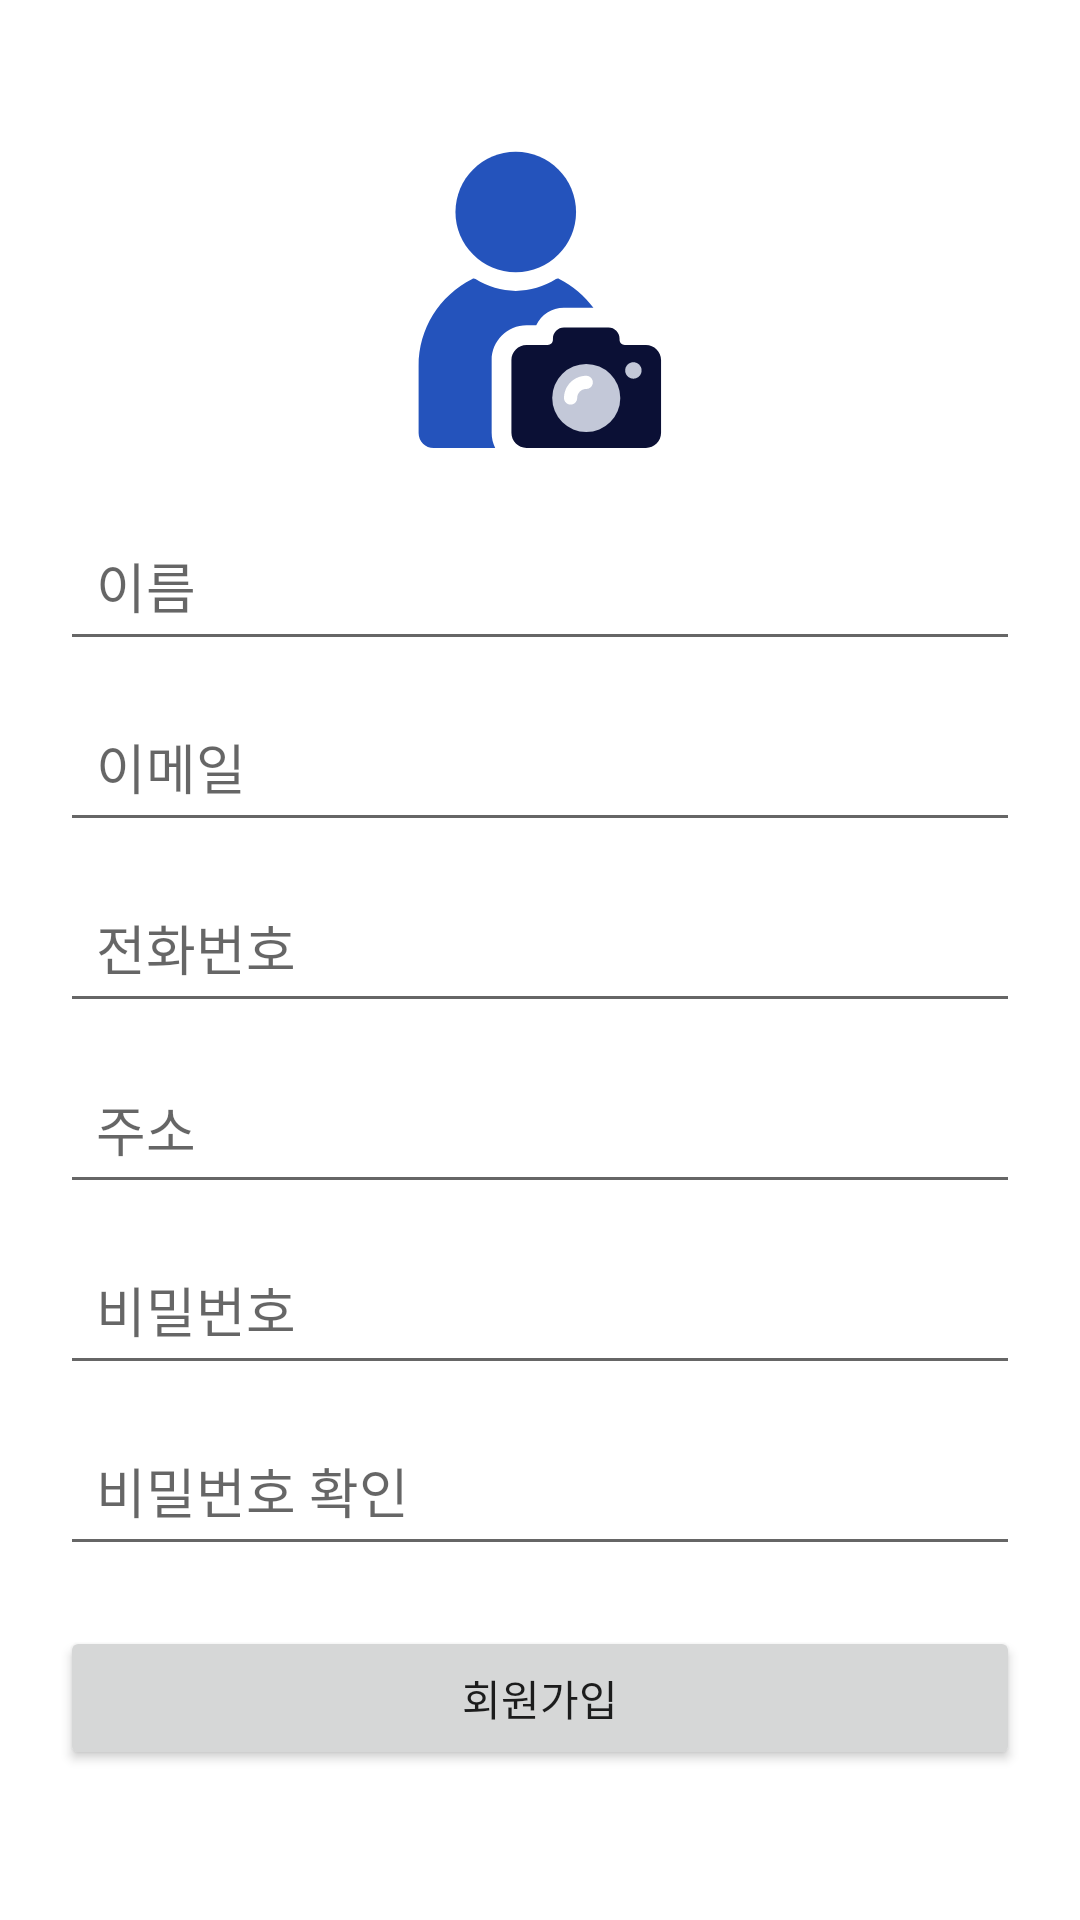

Screen size 1080 x 1920. Icon name, then its box in pixels as (x1, y1, x2, y2):
프로필 이미지 선택: (418, 151, 661, 448)
